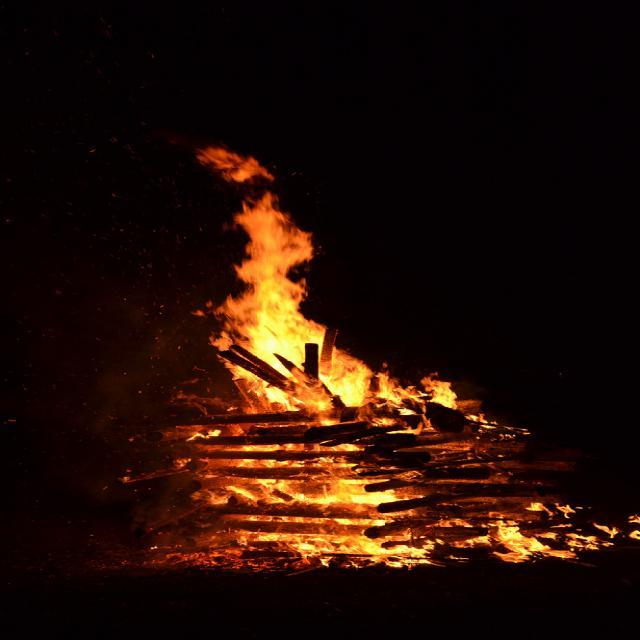Fire: (231, 166, 315, 360), (255, 476, 382, 560)
